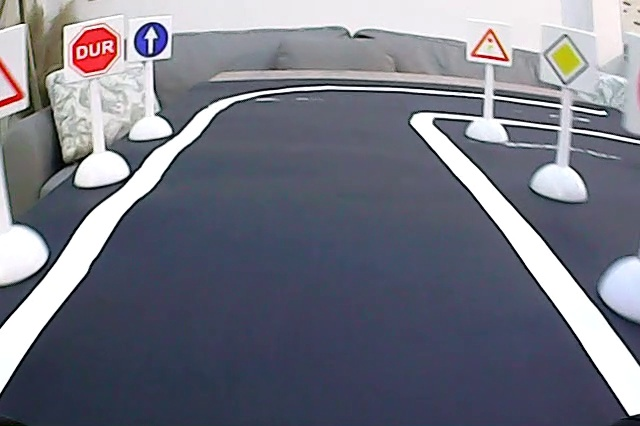red light: (469, 24, 510, 62)
stop sign: (66, 25, 125, 79)
